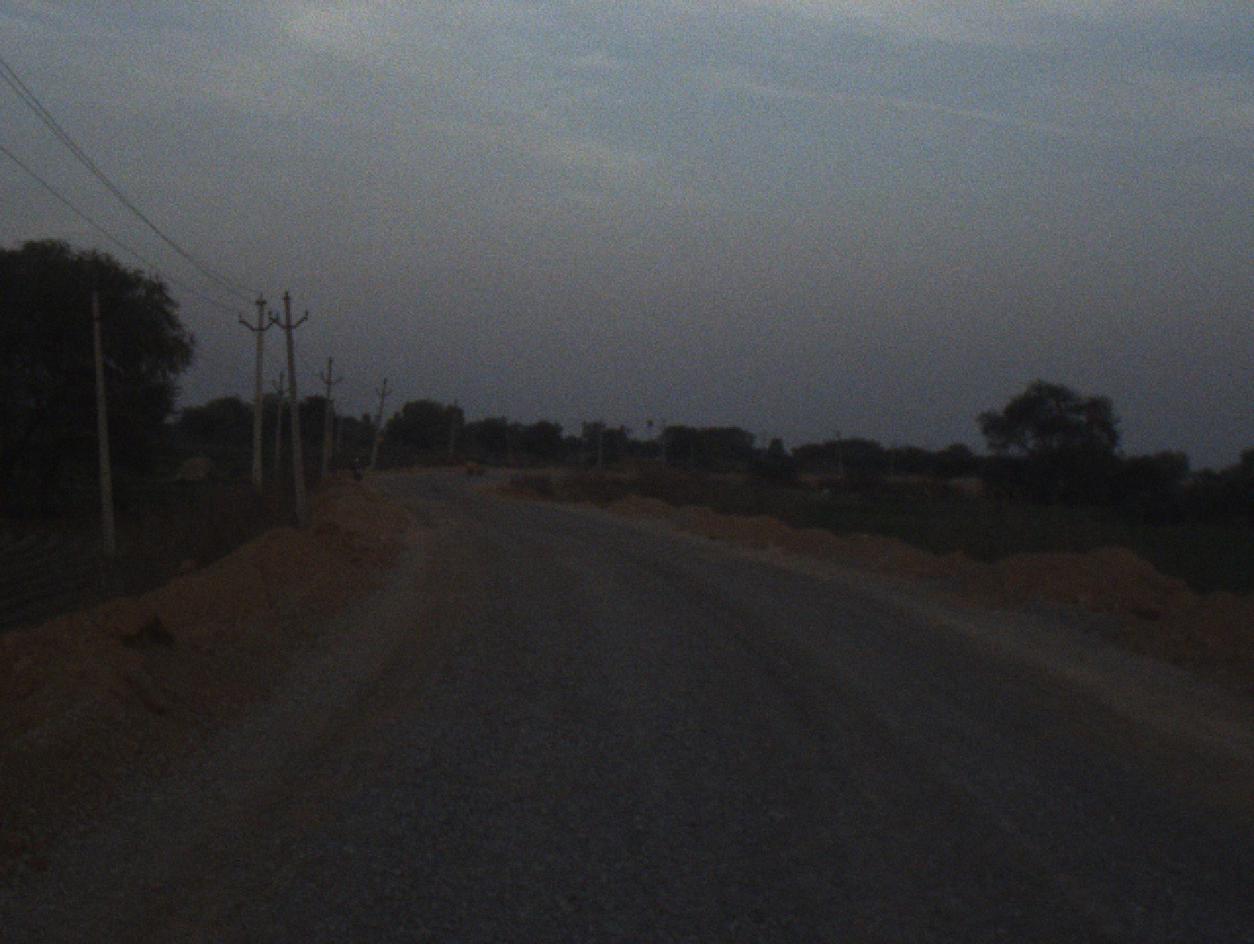autorickshaw: (459, 447, 488, 474)
motorcycle: (351, 454, 364, 481)
